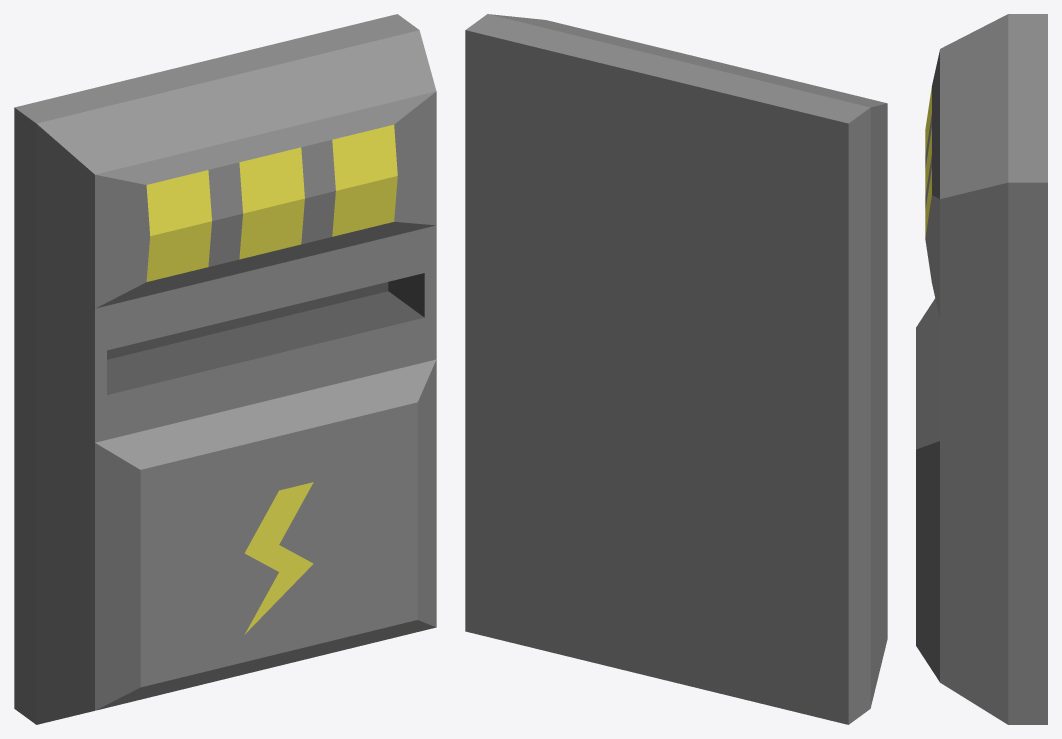
Rendered from Props_Bedroom_LeverHole.fbx.
3 views of the same model, side by side, from view 1: azimuth 30°, elevation 25°; view 2: azimuth 150°, elevation 25°; view 3: azimuth 270°, elevation 25° (orthographic). The views are drawn at different scales.
Parts seen in each view (by area): view 1: Cube.012; view 2: Cube.012; view 3: Cube.012.
Part boxes in pixels (x1,y1,x2,y2): Cube.012: (14, 14, 436, 724); Cube.012: (465, 14, 887, 724); Cube.012: (916, 14, 1047, 724).
Size of the model in its own units: 449 by 673 by 148.
